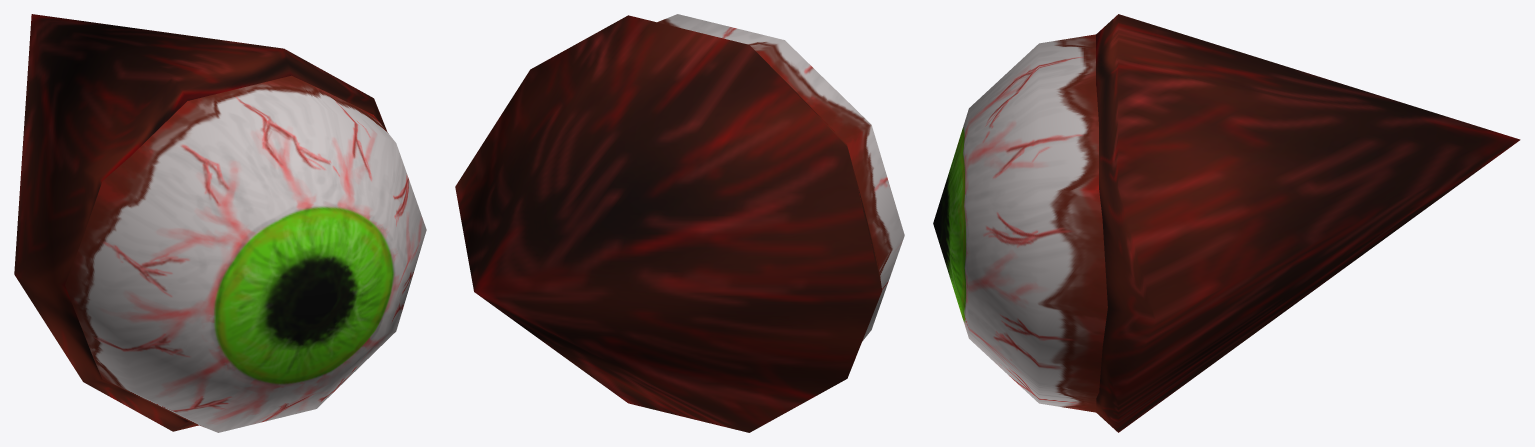
Rendered from Eye.fbx.
The picture shows the model from 3 angles, left to right: view 1: azimuth 30°, elevation 25°; view 2: azimuth 150°, elevation 25°; view 3: azimuth 270°, elevation 25°; orthographic projection. The views are drawn at different scales.
Parts seen in each view (by area): view 1: pCylinder1; view 2: pCylinder1; view 3: pCylinder1.
Boxes of the visible parts, x1,y1,x2,y2 form: pCylinder1: [14, 14, 426, 432]; pCylinder1: [455, 14, 904, 432]; pCylinder1: [933, 14, 1520, 432].
Bounding box in the file's own units: 1.45 × 1.25 × 1.84.
